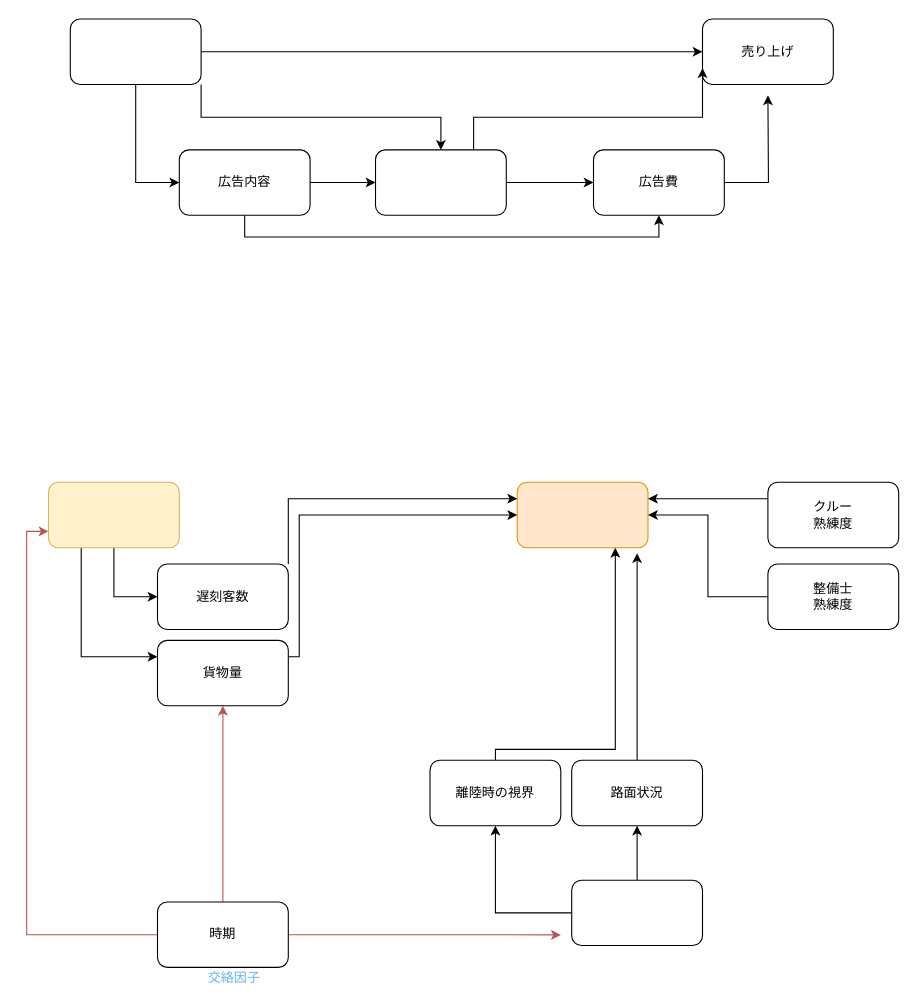
The diagram is 918 pixels wide and 1008 high, and some of its shapes have lost their labels. Each missing label, with the centre of its shape:
チャネル: the point at 440,182
乗客数: the point at 113,514
消費者属性: the point at 135,51
発着場 雨量: the point at 637,912
遅延: the point at 582,514
